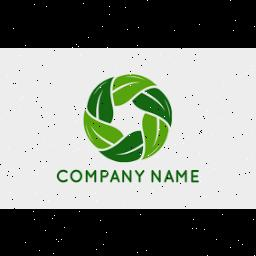a: (110, 168, 120, 186)
c: (55, 166, 69, 182)
e: (189, 168, 201, 182)
m: (84, 168, 98, 184)
n: (121, 168, 133, 184)
o: (70, 167, 82, 183)
p: (99, 167, 109, 185)
y: (134, 168, 146, 182)
